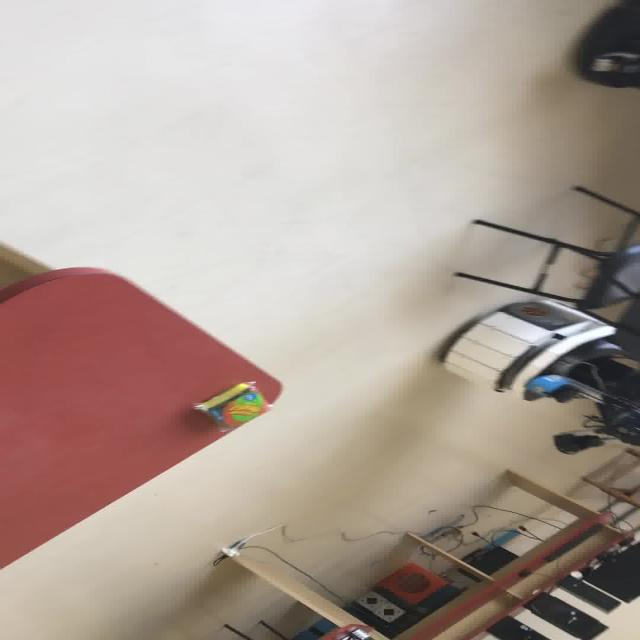sponge: (0, 265, 284, 568), (192, 380, 270, 432)
